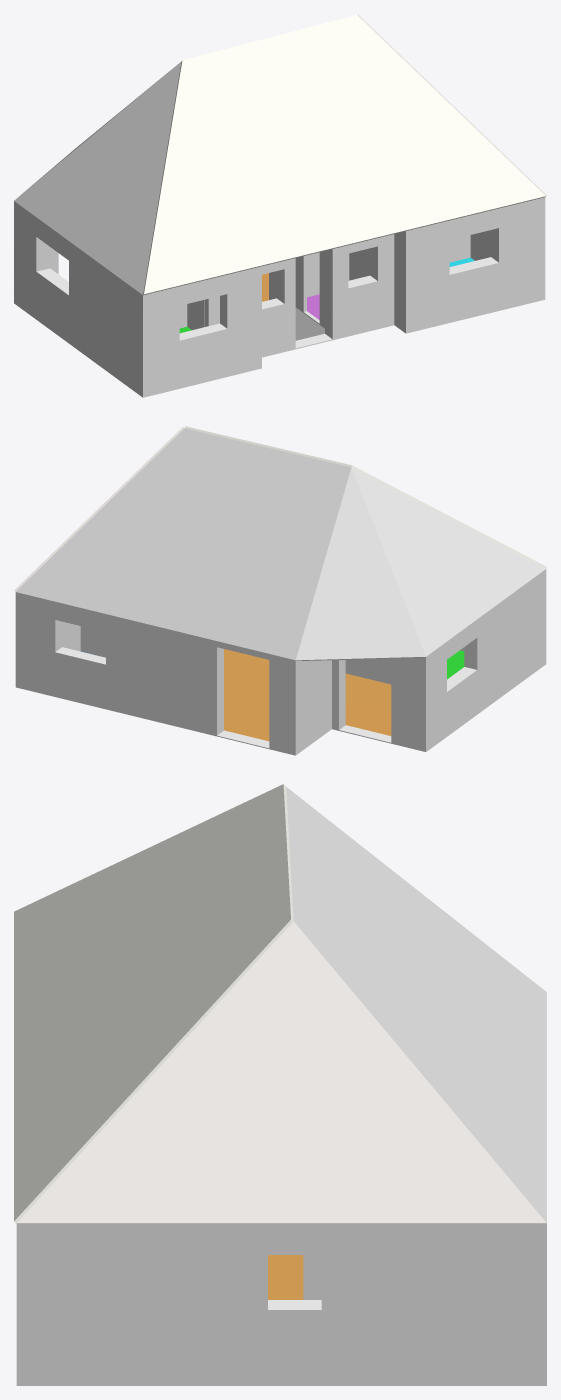
File: dom_do_gry.fbx
3 views of the same model, one above another, from view 1: azimuth 30°, elevation 25°; view 2: azimuth 150°, elevation 25°; view 3: azimuth 270°, elevation 25° (orthographic). The views are drawn at different scales.
Visible parts, largest first — view 1: dach1, sciany, dach4, korytarz; view 2: dach3, sciany, dach4, wiatrolap, dach1, dach2; view 3: sciany, dach2, dach1, dach3, wiatrolap.
Boxes of the visible parts, bbox=[...] form: dach1: bbox=[143, 15, 545, 295]; sciany: bbox=[14, 197, 545, 397]; dach4: bbox=[14, 61, 181, 294]; korytarz: bbox=[295, 307, 324, 340]; dach3: bbox=[16, 428, 425, 660]; sciany: bbox=[15, 569, 546, 755]; dach4: bbox=[352, 468, 545, 656]; wiatrolap: bbox=[224, 649, 391, 741]; dach1: bbox=[185, 426, 546, 568]; dach2: bbox=[14, 427, 184, 591]; sciany: bbox=[16, 1224, 546, 1385]; dach2: bbox=[16, 921, 546, 1223]; dach1: bbox=[14, 784, 293, 1223]; dach3: bbox=[286, 787, 546, 1226]; wiatrolap: bbox=[268, 1255, 303, 1299].
Bounding box in the file's own units: 381 × 222 × 276.
